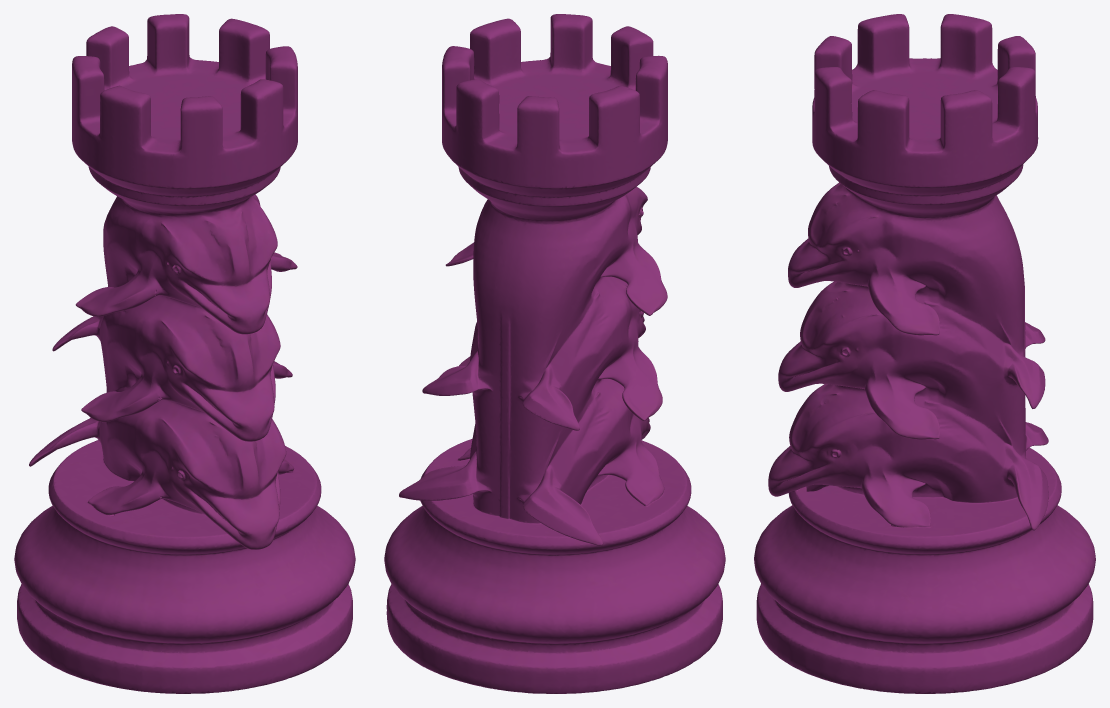
Rendered from sample_2026-09-05T100544.113.glb.
3 renders of one model, left to right at view 1: azimuth 30°, elevation 25°; view 2: azimuth 150°, elevation 25°; view 3: azimuth 270°, elevation 25°, orthographic.
Parts seen in each view (by area): view 1: world; view 2: world; view 3: world.
Boxes of the visible parts, x1,y1,x2,y2 form: world: (14, 14, 355, 693); world: (384, 14, 725, 693); world: (754, 14, 1095, 693).
Size of the model in its own units: 0.548 by 1 by 0.5481.
Materials: 1 (1 with a texture image).
